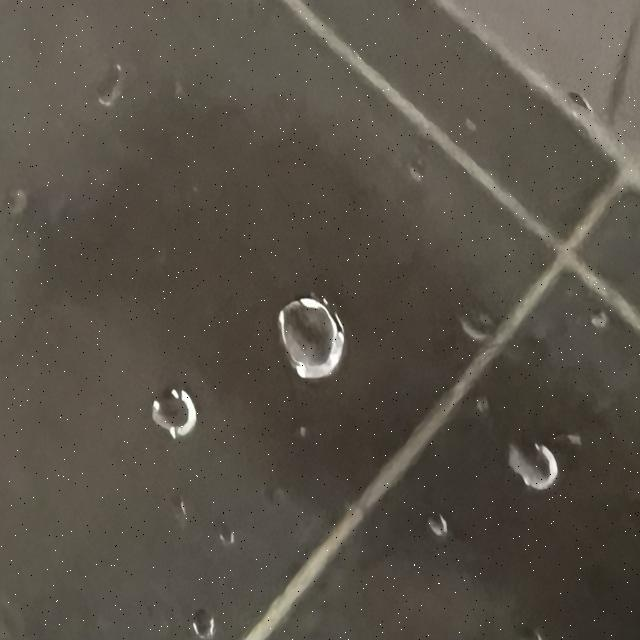raindrop: (241, 287, 360, 403), (138, 358, 212, 453), (485, 421, 568, 505), (444, 300, 516, 356), (87, 50, 132, 123), (581, 296, 618, 354), (412, 509, 451, 551), (173, 607, 217, 640), (170, 493, 198, 536), (208, 518, 239, 544)
